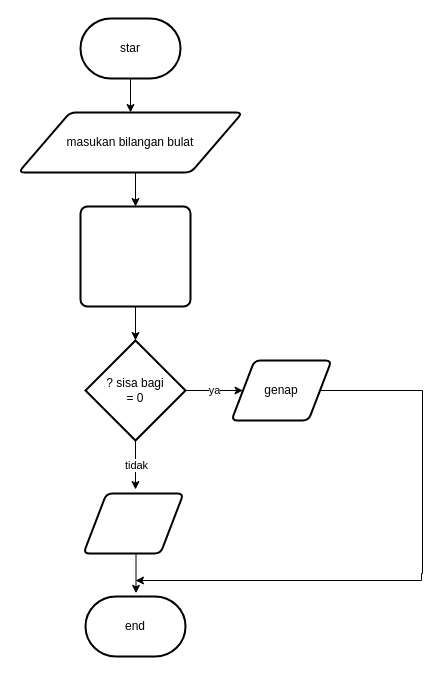
Some shapes in this 448 by 674 pixel diagram are drawn without their labels. The shapes that lost their labels are listed below. From the top down, each one's centre as x and y in pixels, then its label:
At pixel 135 256: "bilangan dibagi 2 dengan operasi sisa bagi".
At pixel 133 523: "ganjil".
